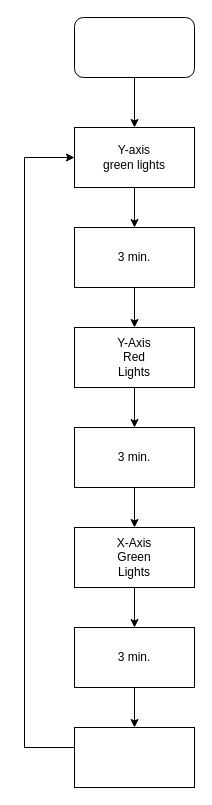
The diagram is 212 pixels wide and 805 high, and some of its shapes have lost their labels. Here are the shapes that lost their labels. From the top down, the centre of each, then its label:
At point 134,47: "Start".
At point 134,757: "X-Axis Red Light".
